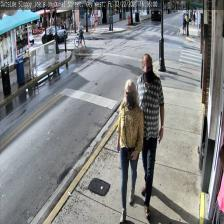person: (135, 53, 164, 219), (116, 79, 144, 224)
